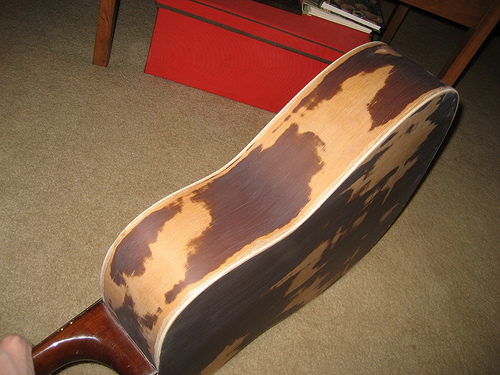guitar: (29, 41, 461, 375)
